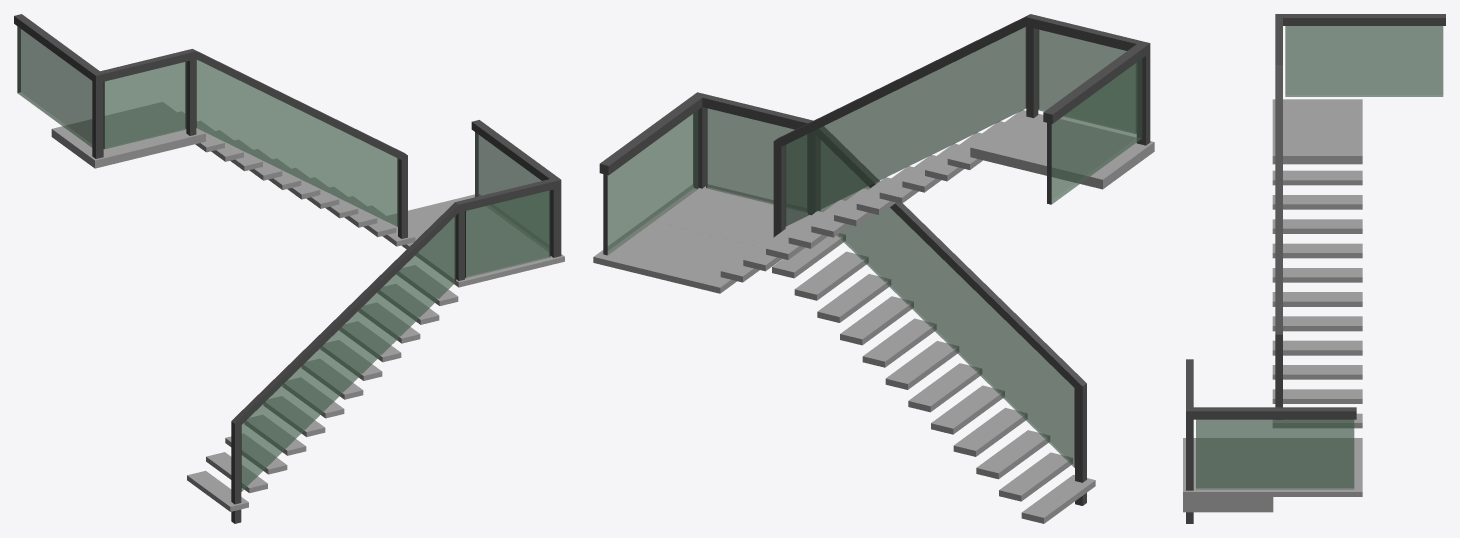
File: 33 Staire.fbx
The picture shows the model from 3 angles, left to right: view 1: azimuth 30°, elevation 25°; view 2: azimuth 150°, elevation 25°; view 3: azimuth 270°, elevation 25°; orthographic projection. The views are drawn at different scales.
Parts seen in each view (by area): view 1: Staire4; view 2: Staire4; view 3: Staire4.
Boxes of the visible parts, left/top/right/bottom form: Staire4: left=14, top=14, right=564, bottom=523; Staire4: left=593, top=14, right=1154, bottom=523; Staire4: left=1183, top=14, right=1445, bottom=523.
Size of the model in its own units: 84.45 by 83.19 by 43.27.
